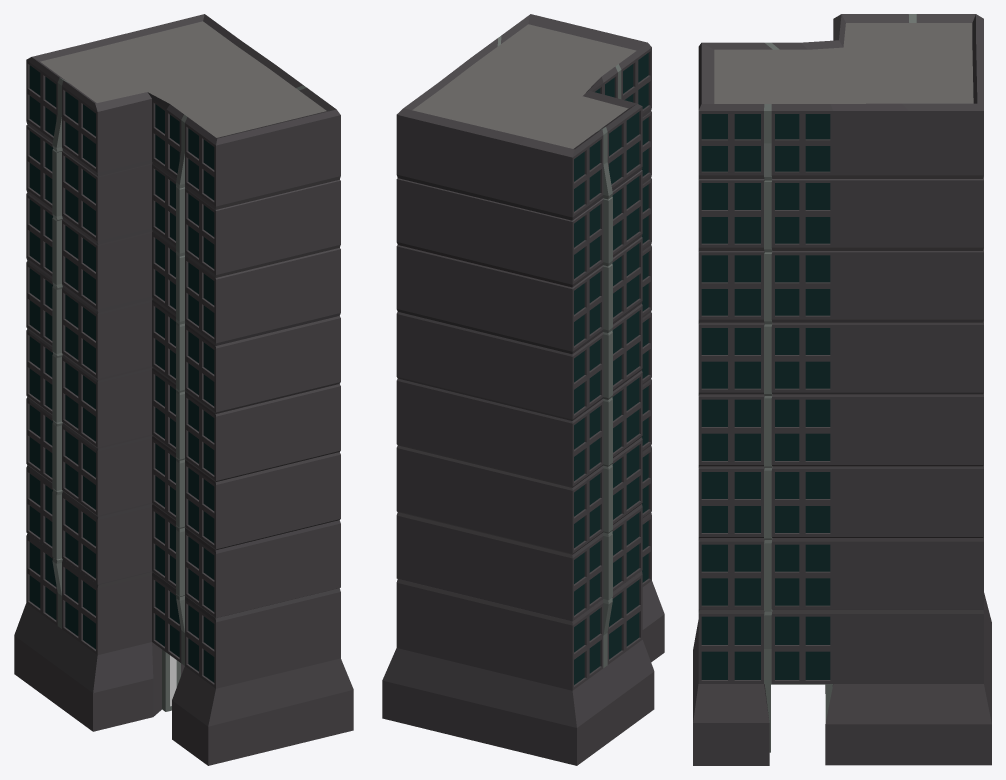
The model's file is APARTMENTS 3.fbx.
3 views of the same model, side by side, from view 1: azimuth 30°, elevation 25°; view 2: azimuth 150°, elevation 25°; view 3: azimuth 270°, elevation 25° (orthographic). The views are drawn at different scales.
Parts seen in each view (by area): view 1: Cube; view 2: Cube; view 3: Cube.
Part boxes in pixels (box(x1,y1,x2,y2)): Cube: box(14, 14, 353, 765); Cube: box(382, 14, 664, 765); Cube: box(693, 14, 991, 765).
Bounding box in the file's own units: 550 × 1646 × 680.
